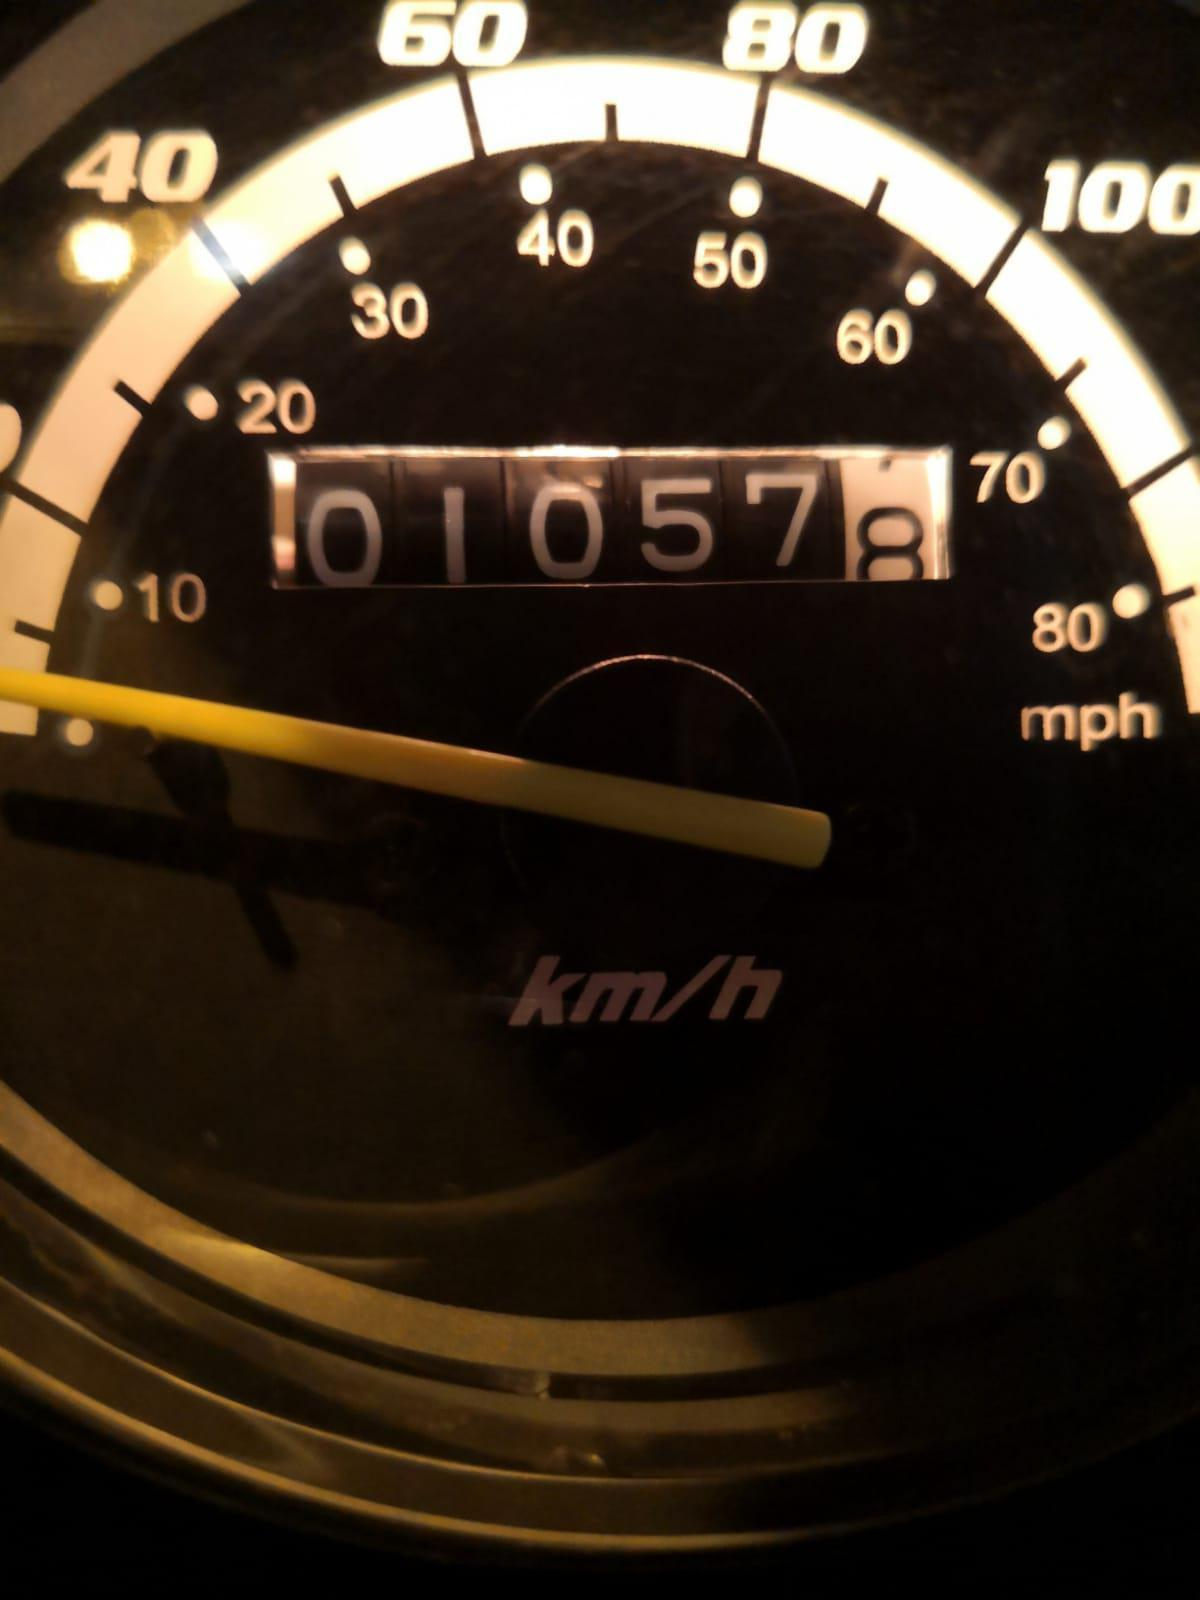0: (518, 466, 606, 595), (300, 477, 388, 595)
1: (417, 465, 492, 595)
5: (625, 469, 721, 578)
7: (737, 464, 824, 574)
8: (845, 493, 943, 597)
odometer: (251, 436, 976, 610)
